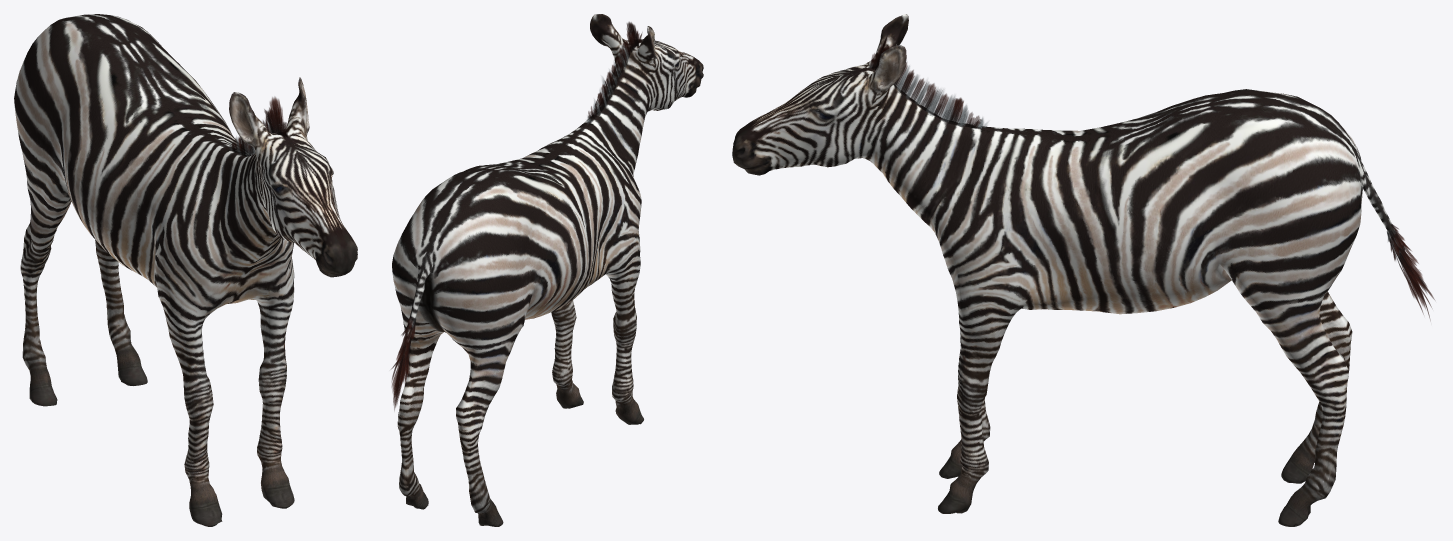
3 views of the same model, side by side, from view 1: azimuth 30°, elevation 25°; view 2: azimuth 150°, elevation 25°; view 3: azimuth 270°, elevation 25° (orthographic). The views are drawn at different scales.
Visible parts, largest first — view 1: Zebra_Body; view 2: Zebra_Body; view 3: Zebra_Body.
Boxes of the visible parts, <box> form: Zebra_Body: <box>14,14,357,526</box>; Zebra_Body: <box>392,14,703,526</box>; Zebra_Body: <box>732,14,1404,526</box>.
Size of the model in its own units: 0.00659 by 0.0185 by 0.0254.
Materials: 5 (5 with a texture image).
